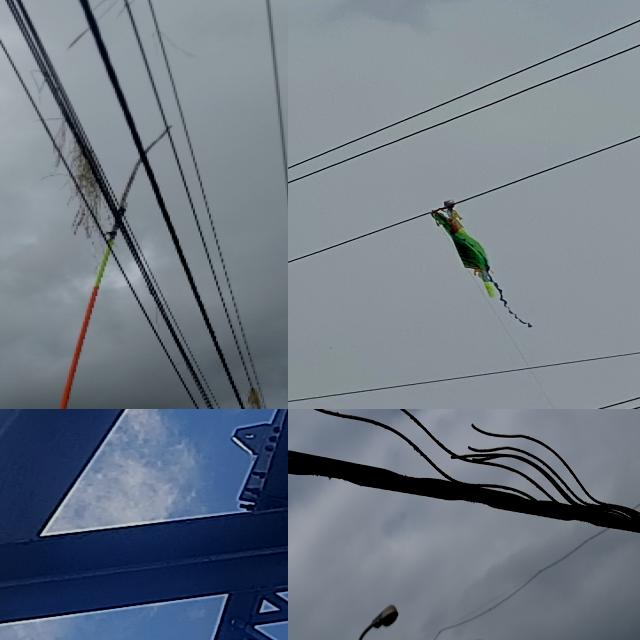植被遮挡: (18, 71, 112, 247), (427, 198, 539, 330), (59, 0, 130, 53)
电缆破损: (288, 409, 640, 541)
